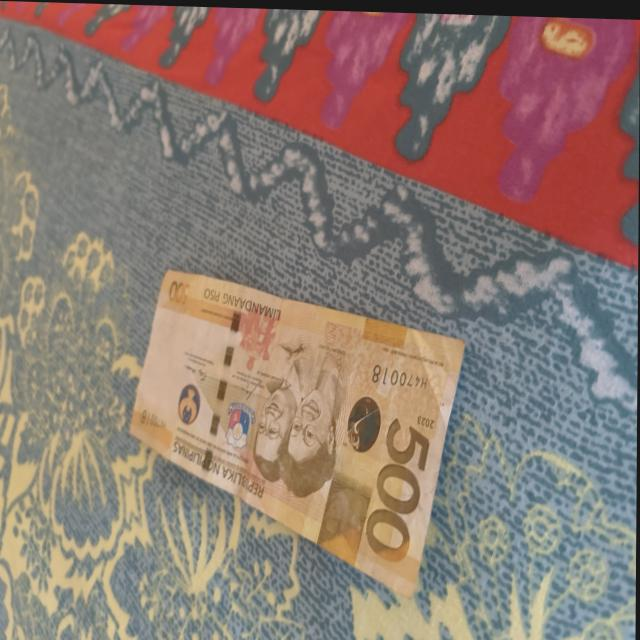concealed_value: (323, 472, 370, 549)
optically_variable_device: (348, 390, 382, 454)
serial_number: (363, 342, 440, 406)
value: (364, 419, 439, 571)
watermark: (147, 308, 186, 421)
